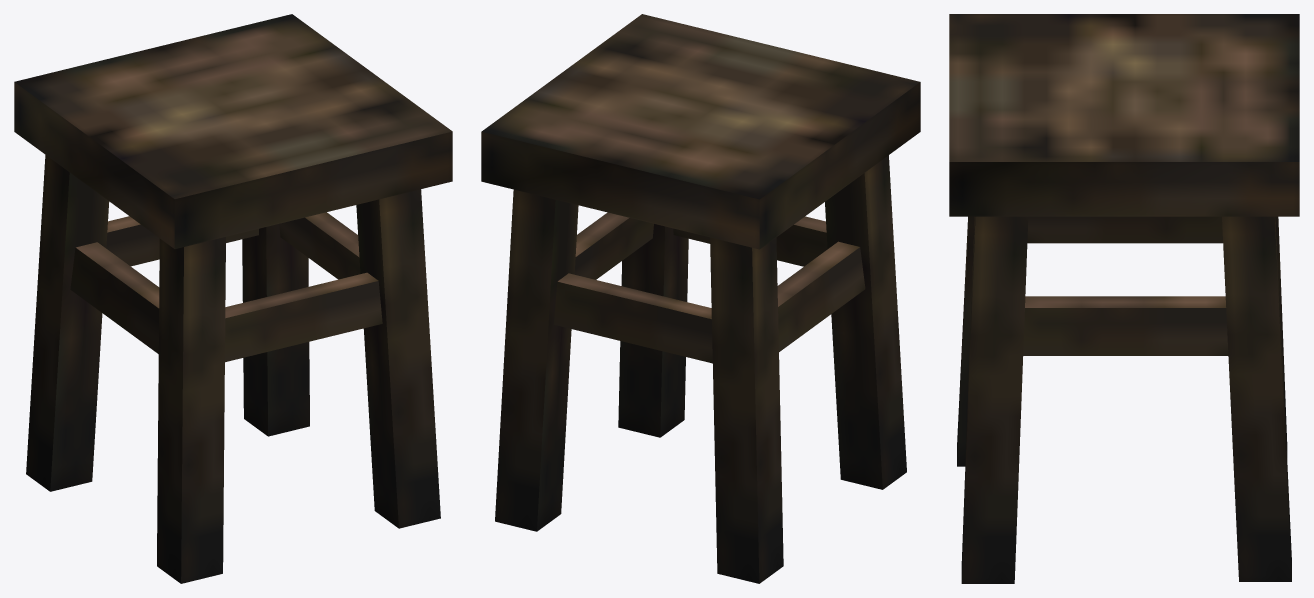
File: general_obj_woodchair_01.fbx
3 views of the same model, side by side, from view 1: azimuth 30°, elevation 25°; view 2: azimuth 150°, elevation 25°; view 3: azimuth 270°, elevation 25° (orthographic). The views are drawn at different scales.
Visible parts, largest first — view 1: Object25; view 2: Object25; view 3: Object25.
Part boxes in pixels (left/top/right/bottom): Object25: left=14, top=14, right=452, bottom=583; Object25: left=481, top=14, right=920, bottom=583; Object25: left=949, top=14, right=1299, bottom=583.
Size of the model in its own units: 0.3867 by 0.5179 by 0.3867.
